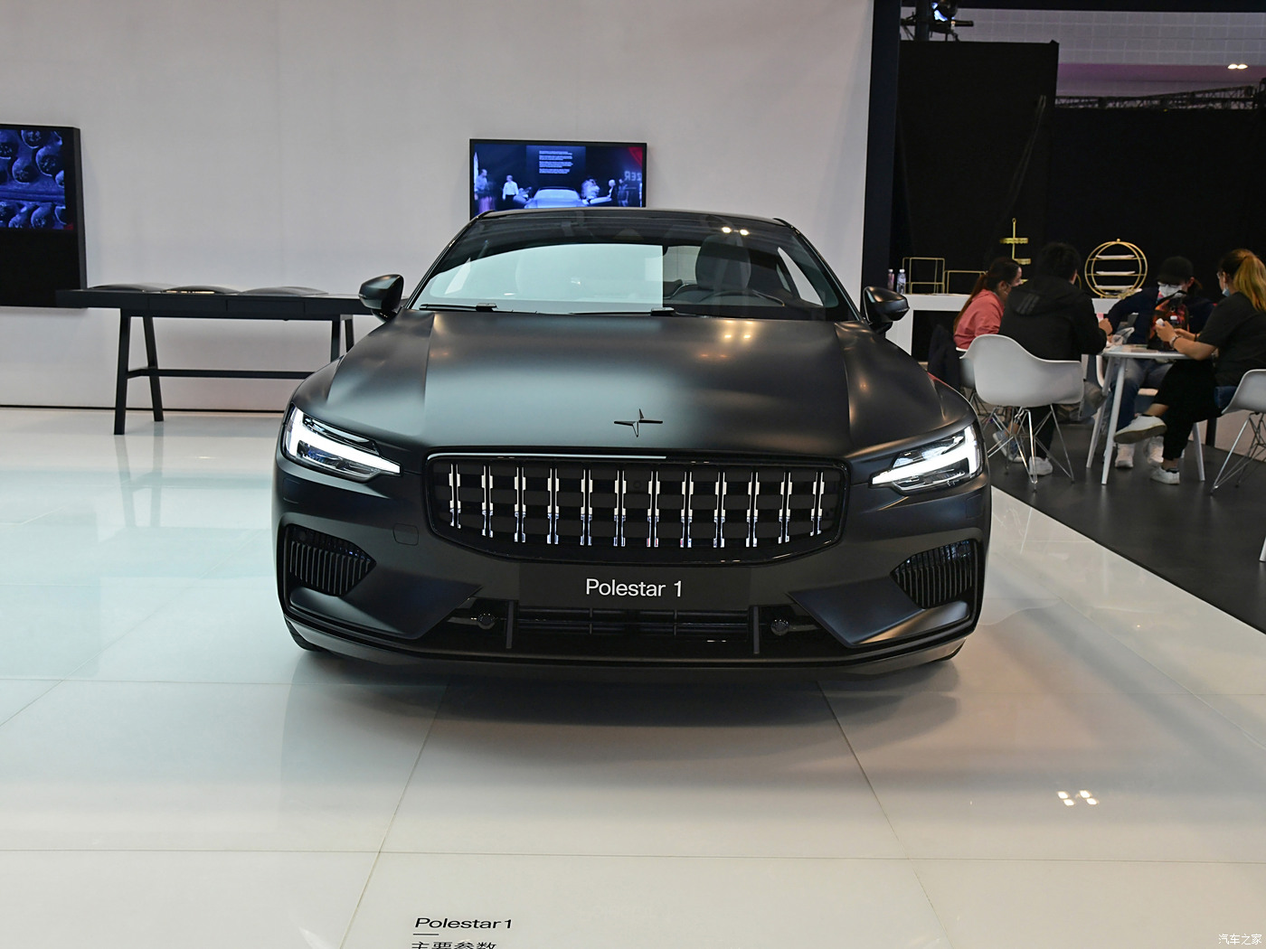Polestar: (615, 409, 664, 437)
